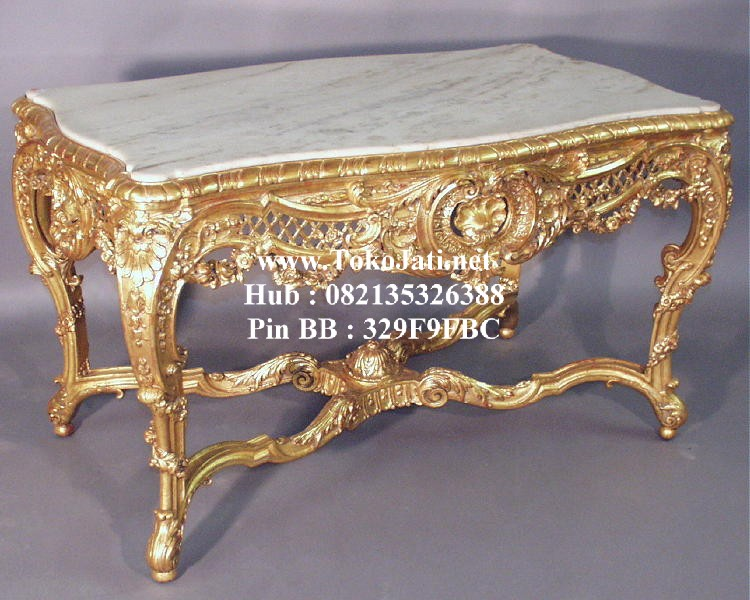Carving Table: (10, 70, 730, 486)
